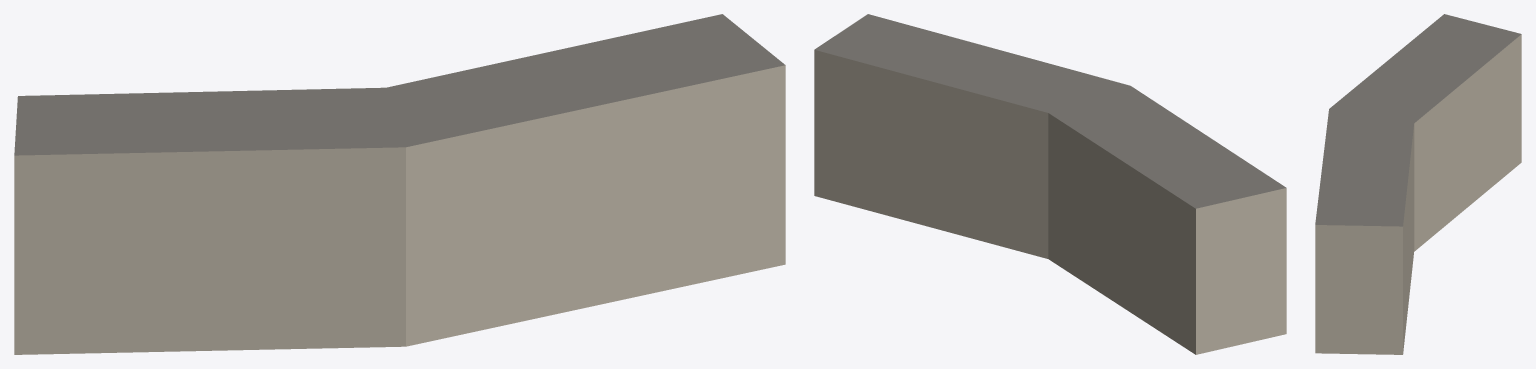
3 views of the same model, side by side, from view 1: azimuth 30°, elevation 25°; view 2: azimuth 150°, elevation 25°; view 3: azimuth 270°, elevation 25° (orthographic). The views are drawn at different scales.
Parts seen in each view (by area): view 1: HP-w1153724039; view 2: HP-w1153724039; view 3: HP-w1153724039.
Part boxes in pixels (x1,y1,x2,y2): HP-w1153724039: (14,14,785,354); HP-w1153724039: (814,14,1286,354); HP-w1153724039: (1315,14,1521,354).
Size of the model in its own units: 63.89 by 18 by 26.24.
